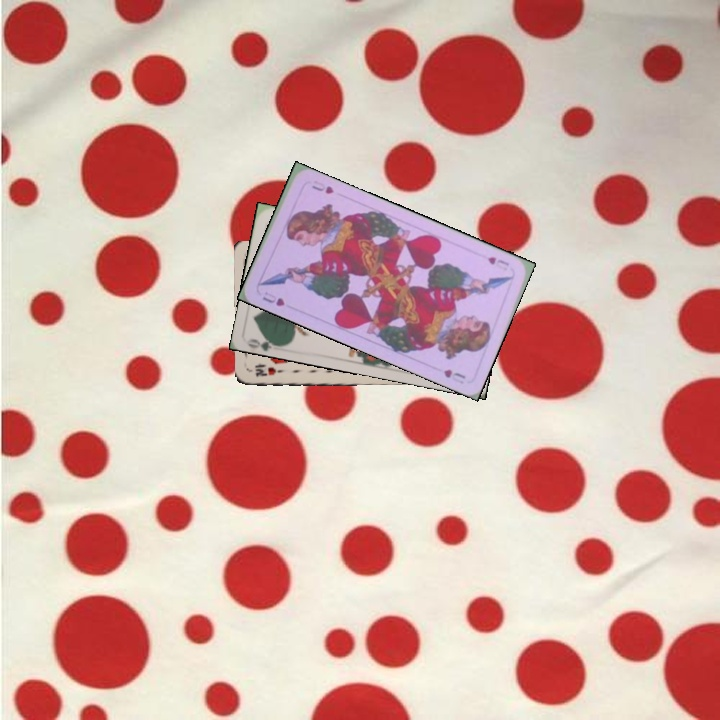GO: (245, 330, 286, 351)
H10: (251, 363, 286, 379)
HU: (258, 287, 288, 309), (483, 252, 512, 270)
